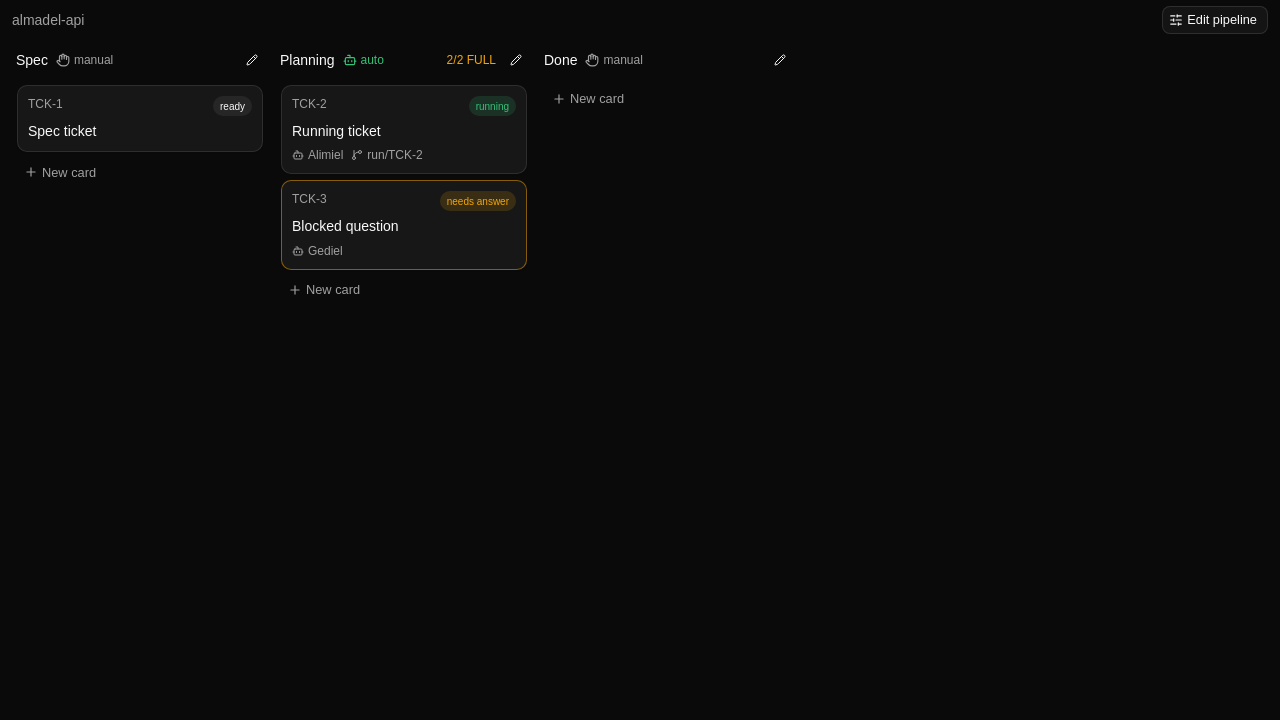
Scenario: Board › edit pipeline opens the editor
Click the button "Edit pipeline".
click(1215, 20)  # box [1162,6,1268,34]
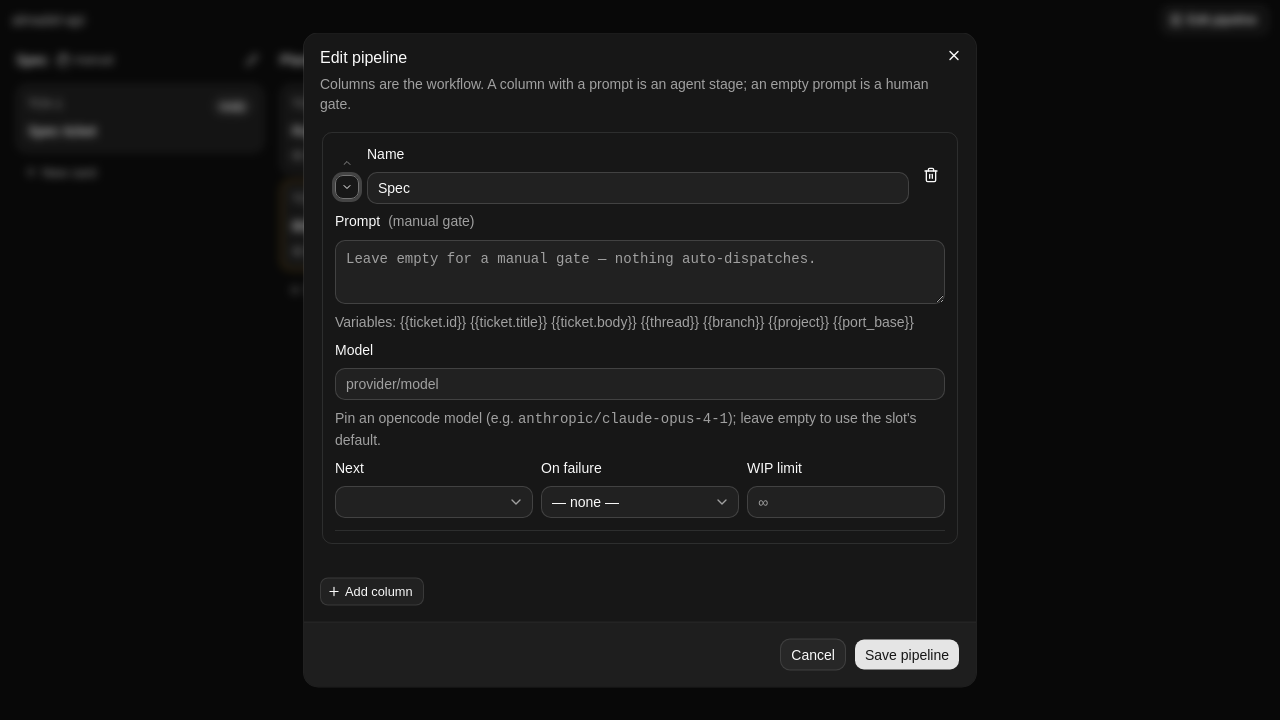
Expected: the text "Columns are the workflow" is shown, [320,76,928,112]
